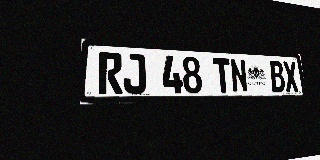4: (162, 55, 183, 94)
8: (182, 56, 203, 93)
B: (269, 60, 286, 92)
J: (123, 53, 146, 94)
N: (230, 58, 248, 93)
R: (98, 52, 123, 94)
T: (213, 58, 232, 93)
X: (283, 61, 299, 92)
